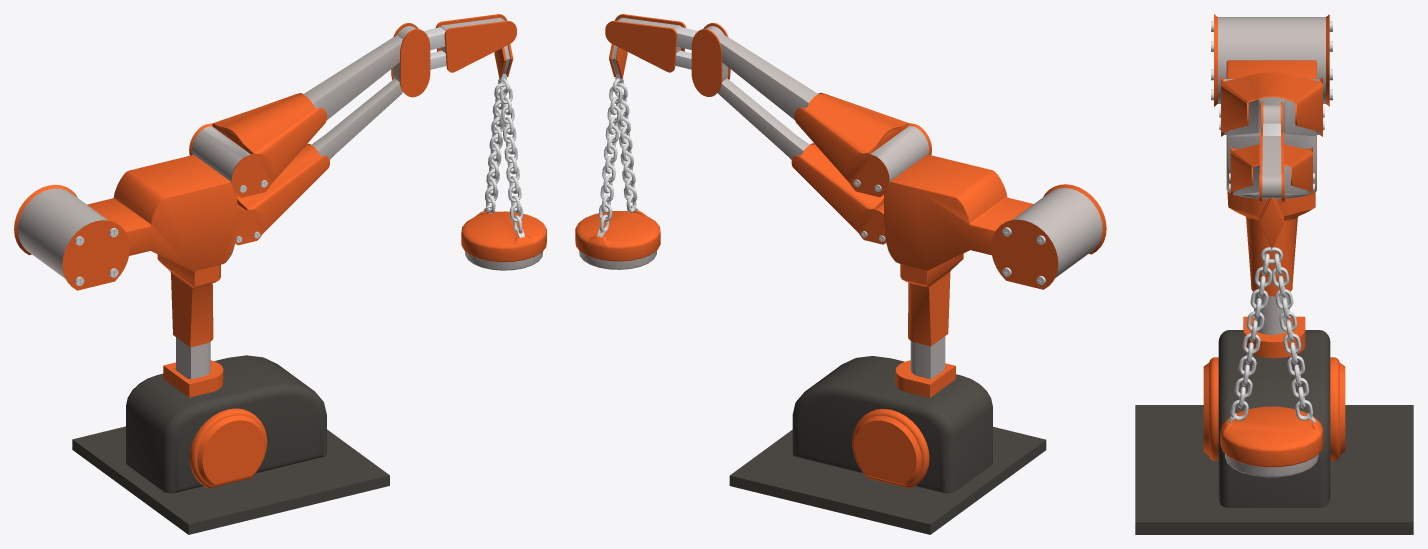
Rendered from Crane_final.fbx.
3 renders of one model, left to right at view 1: azimuth 30°, elevation 25°; view 2: azimuth 150°, elevation 25°; view 3: azimuth 270°, elevation 25°, orthographic. The views are drawn at different scales.
Visible parts, largest first — view 1: Base, CraneTopBack, Cylinder.016, Cylinder.017, Cylinder.018, Chain/Magnet, CraneTop, Cube.013, Plane.007, Cube.011, Cube.012, Torus.006 (+1 smaller); view 2: Base, CraneTopBack, Cylinder.016, Cylinder.017, Cylinder.018, Chain/Magnet, CraneTop, Cube.013, Plane.007, Cube.011, Cube.012, Torus.006 (+1 smaller); view 3: Base, Chain/Magnet, Cylinder.017, Cylinder.018, Cylinder.016, CraneTopBack, Torus.005, CraneTop, Torus.006, Plane.007, Cube.013, Plane.006 (+2 smaller).
Boxes of the visible parts, x1,y1,x2,y2 form: Base: (72, 355, 389, 534); CraneTopBack: (87, 155, 237, 271); Cylinder.016: (189, 93, 327, 197); Cylinder.017: (14, 184, 129, 290); Cylinder.018: (157, 254, 220, 379); Chain/Magnet: (461, 211, 546, 270); CraneTop: (235, 143, 329, 245); Cube.013: (303, 35, 402, 120); Plane.007: (435, 14, 516, 72); Cube.011: (391, 23, 430, 97); Cube.012: (311, 78, 402, 159); Torus.006: (485, 83, 523, 221); Base: (729, 356, 1046, 534); CraneTopBack: (884, 154, 1033, 270); Cylinder.016: (794, 92, 931, 197); Cylinder.017: (991, 184, 1106, 289); Cylinder.018: (900, 253, 963, 379); Chain/Magnet: (575, 210, 660, 269); CraneTop: (791, 143, 886, 244); Cube.013: (719, 35, 818, 119); Plane.007: (605, 14, 685, 72); Cube.011: (691, 23, 730, 96); Cube.012: (718, 78, 809, 159); Torus.006: (599, 83, 637, 221); Base: (1135, 316, 1413, 534); Chain/Magnet: (1220, 406, 1323, 477); Cylinder.017: (1214, 14, 1329, 106); Cylinder.018: (1227, 191, 1315, 334); Cylinder.016: (1221, 72, 1322, 136); CraneTopBack: (1226, 60, 1316, 199); Torus.005: (1230, 267, 1312, 420); CraneTop: (1230, 144, 1312, 194); Torus.006: (1238, 253, 1305, 408); Plane.007: (1259, 132, 1284, 202); Cube.013: (1228, 97, 1315, 136); Plane.006: (1259, 197, 1284, 248).
Size of the model in its own units: 250 by 189 by 100.
